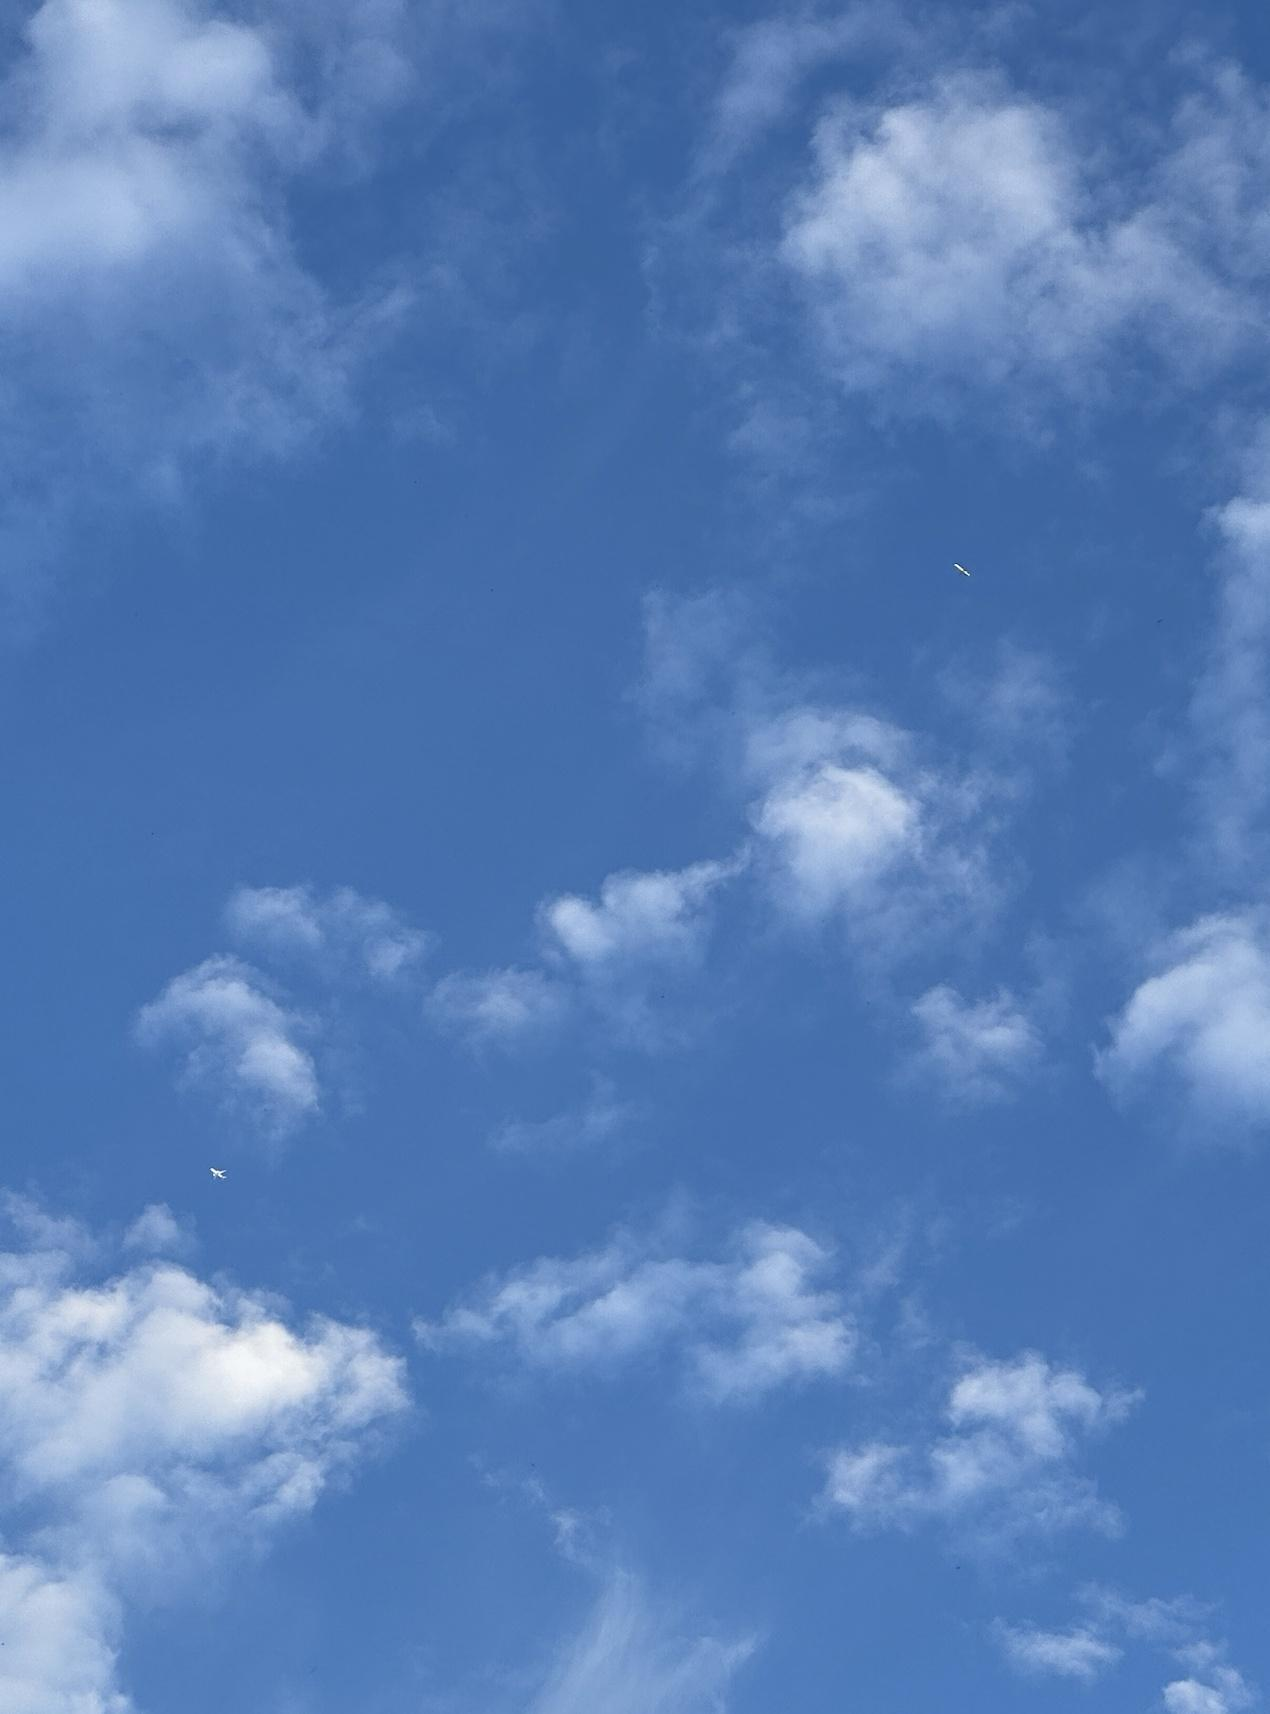Plane: (926, 547, 998, 582), (193, 1151, 247, 1195)
